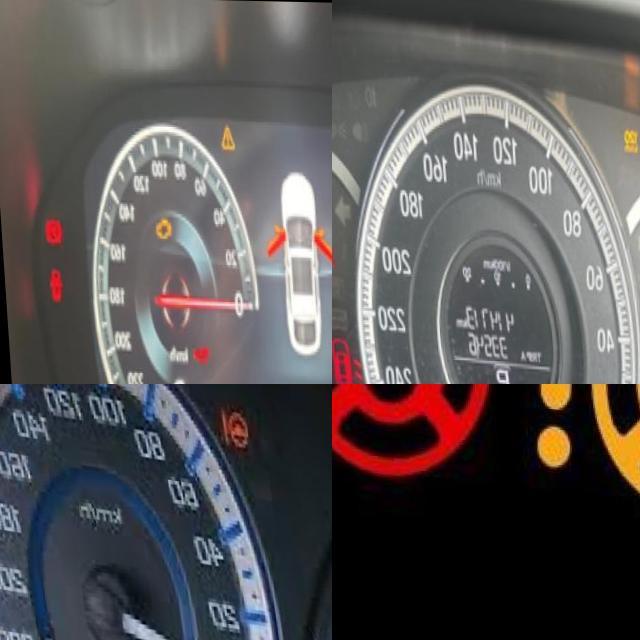Electronic Power Steering: (520, 384, 640, 522), (332, 384, 495, 479), (218, 409, 254, 453)
